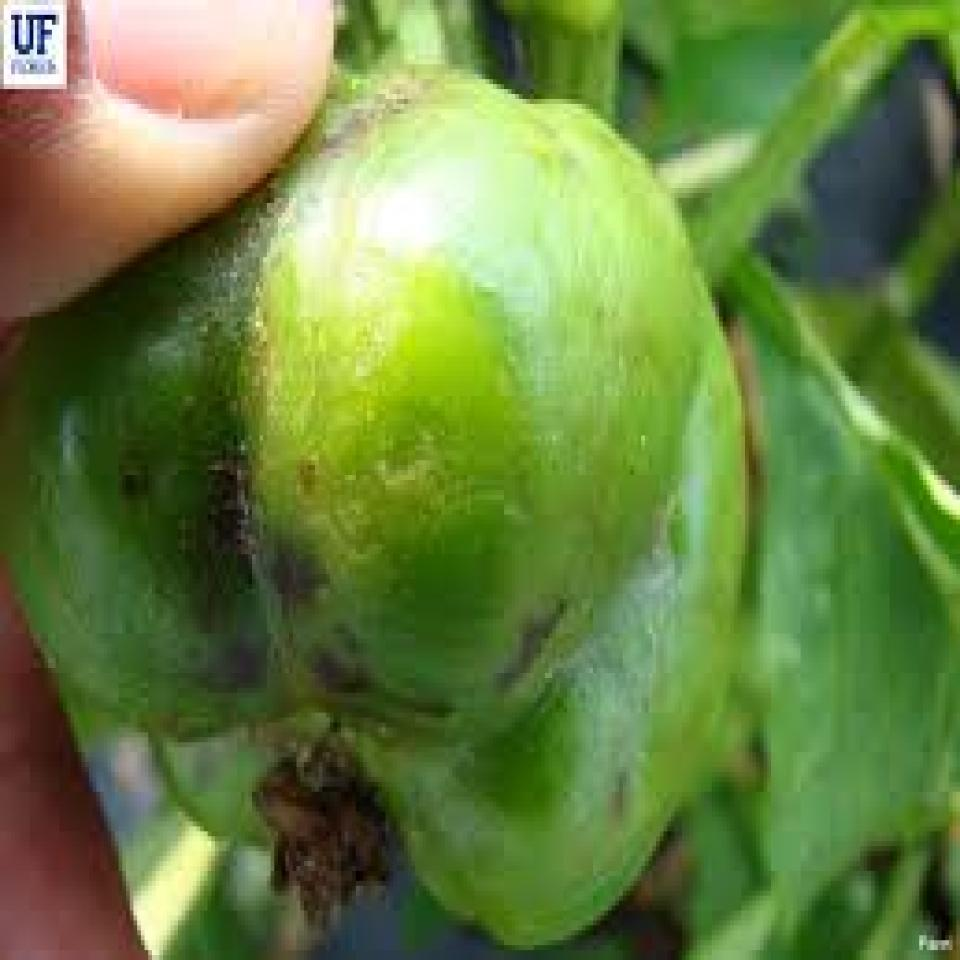Spotted wilt Virus: (15, 69, 748, 955)
